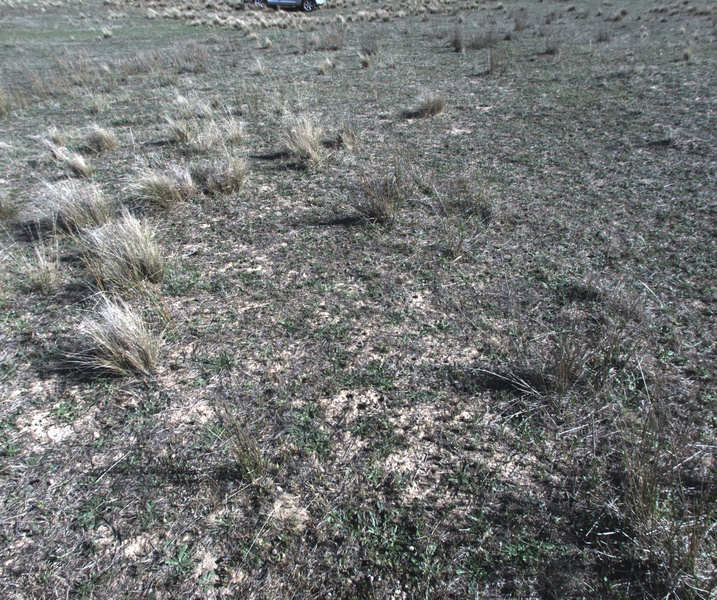st: (65, 300, 155, 376), (89, 217, 167, 282), (30, 177, 99, 228), (133, 159, 195, 212), (278, 111, 325, 168), (194, 157, 242, 199), (407, 86, 448, 120), (175, 119, 230, 144), (43, 149, 88, 179), (78, 125, 122, 152), (333, 127, 358, 157), (166, 86, 184, 107), (679, 47, 696, 66), (356, 53, 368, 70), (266, 36, 275, 48)
